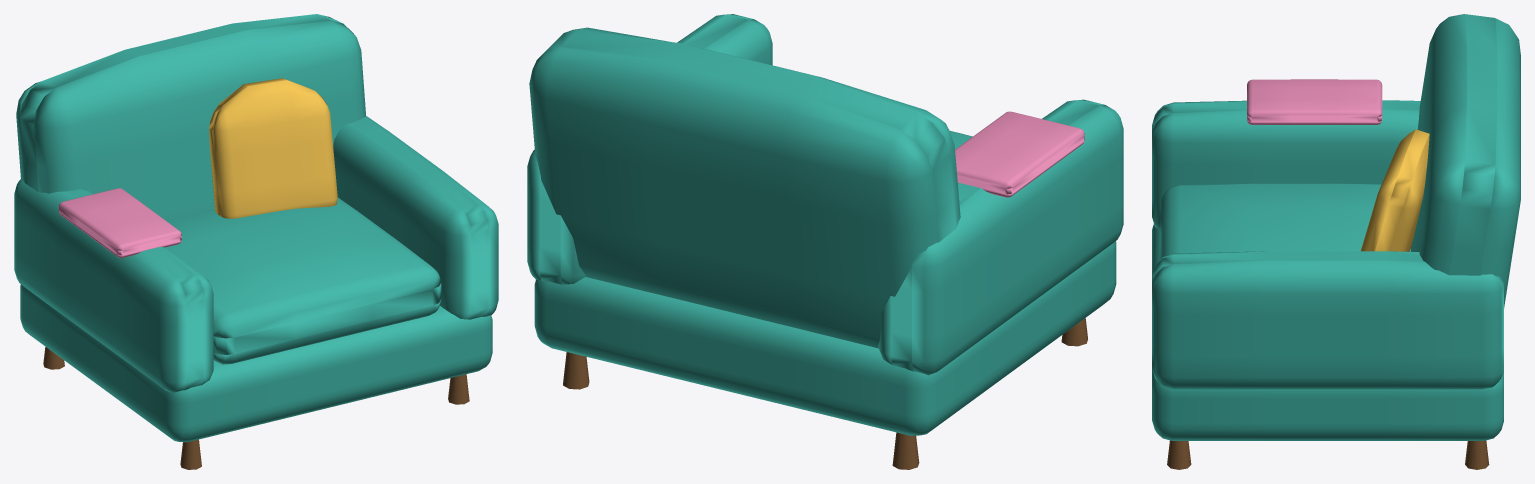
File: poltrona.glb
3 views of the same model, side by side, from view 1: azimuth 30°, elevation 25°; view 2: azimuth 150°, elevation 25°; view 3: azimuth 270°, elevation 25° (orthographic). The views are drawn at different scales.
Visible parts, largest first — view 1: poltrona; view 2: poltrona; view 3: poltrona.
Part boxes in pixels (<box>): poltrona: <box>14,14,498,469</box>; poltrona: <box>527,14,1123,469</box>; poltrona: <box>1152,14,1520,469</box>.
Bounding box in the file's own units: 1.59 × 1.3 × 1.36.
